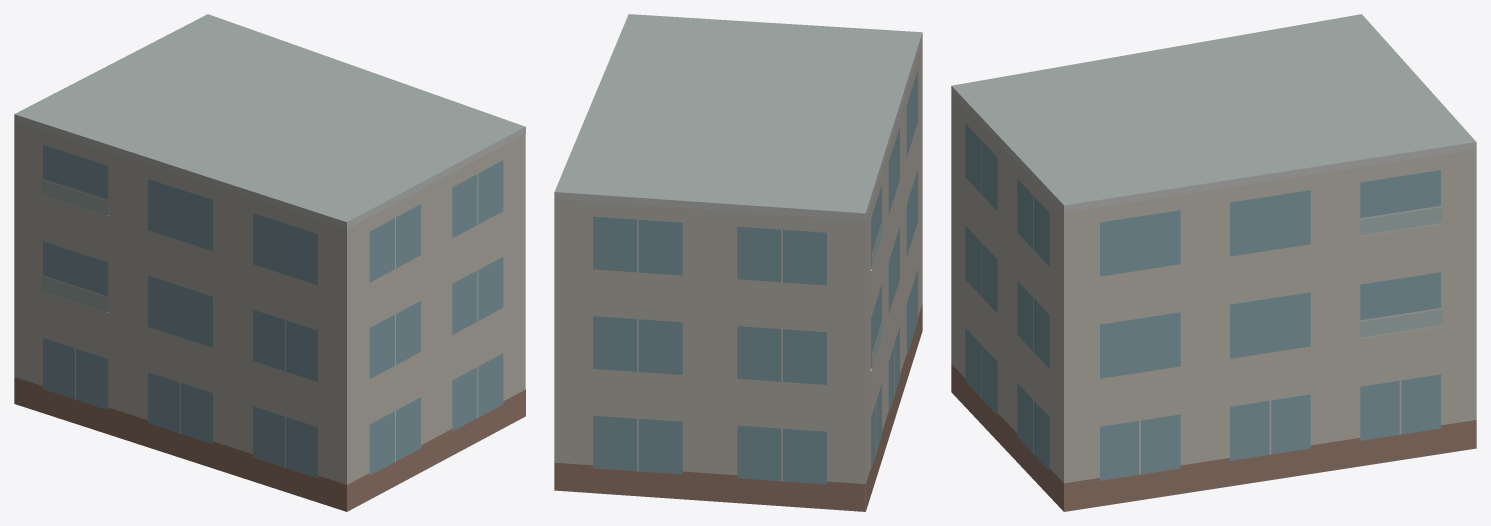
The model's file is survey-upis-33012395.glb.
3 views of the same model, side by side, from view 1: azimuth 30°, elevation 25°; view 2: azimuth 150°, elevation 25°; view 3: azimuth 270°, elevation 25° (orthographic). The views are drawn at different scales.
Parts seen in each view (by area): view 1: survey-upis-33012395.tmp; view 2: survey-upis-33012395.tmp; view 3: survey-upis-33012395.tmp.
Boxes of the visible parts, <box> form: survey-upis-33012395.tmp: <box>14,14,525,511</box>; survey-upis-33012395.tmp: <box>554,14,922,511</box>; survey-upis-33012395.tmp: <box>951,14,1476,511</box>.
Bounding box in the file's own units: 13.54 × 10.1 × 15.69.
